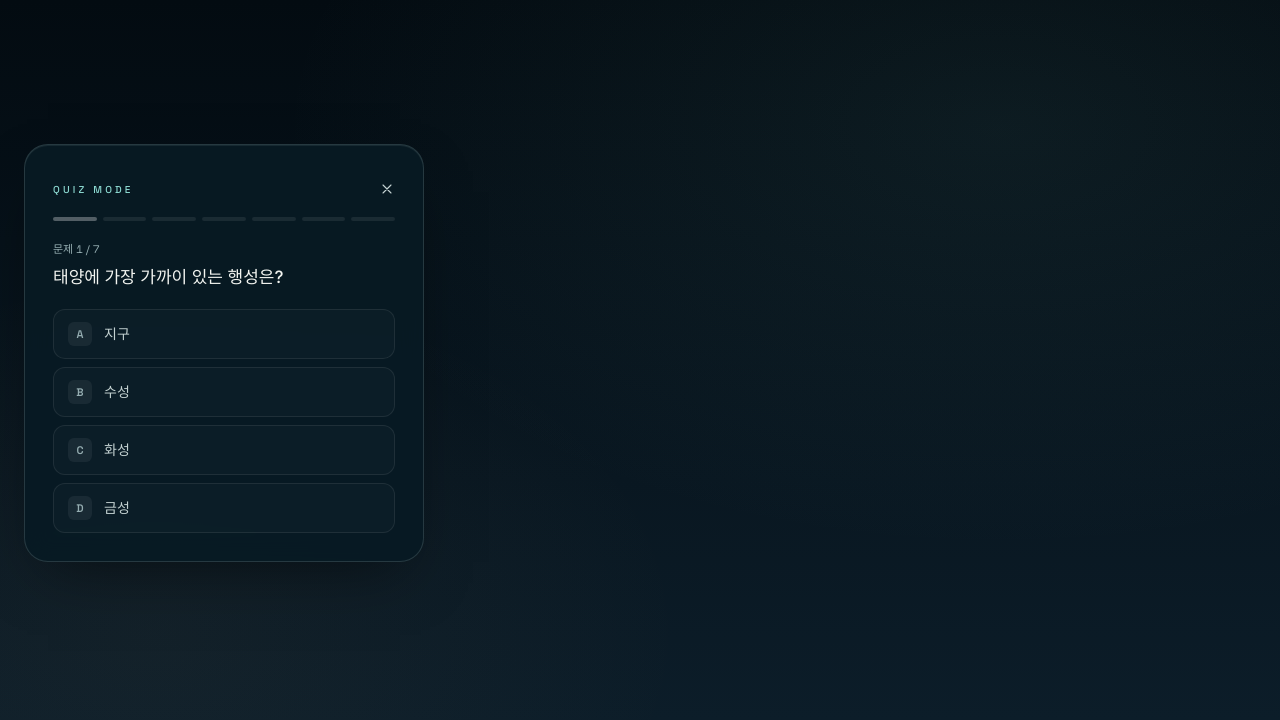
Test case: QuizModal › 오답 선택: 오답 피드백, 점수 변화 없음
Click the button "C 화성". click: (80, 450)
box: x1=53 y1=425 x2=395 y2=475
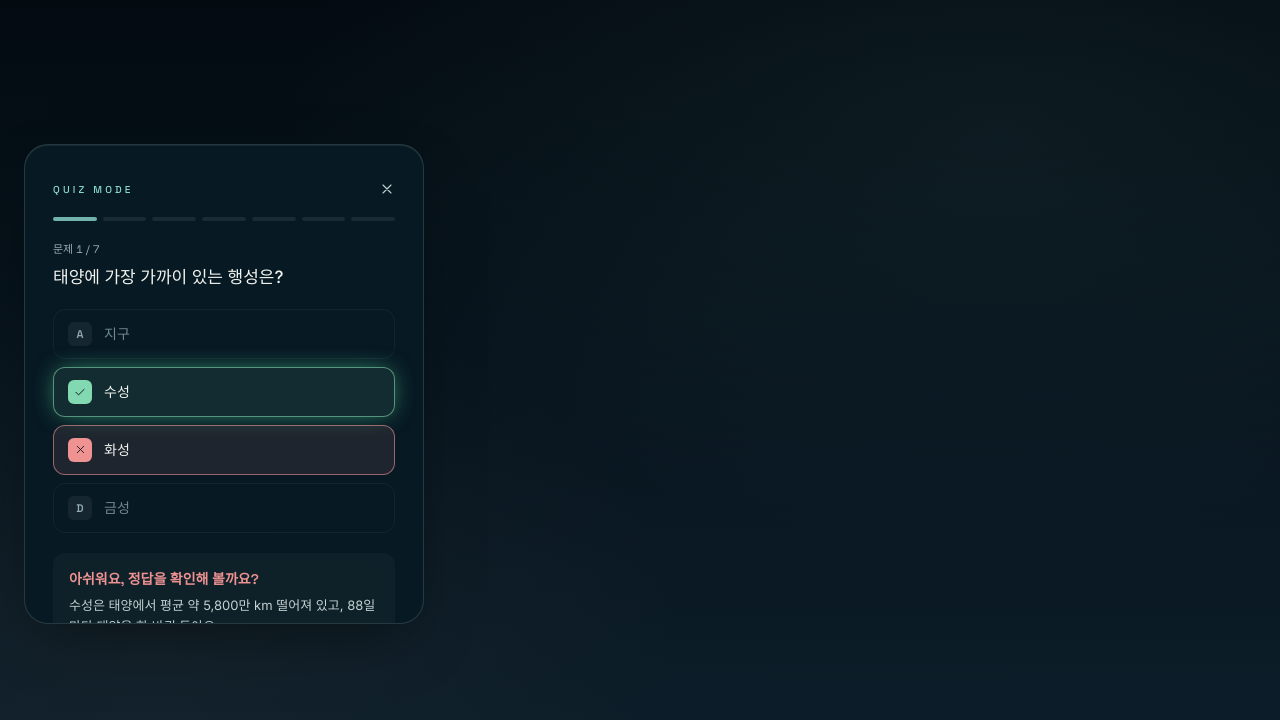
expect the text "아쉬워요, 정답을 확인해 볼까요?" is shown: met, box x1=69 y1=570 x2=259 y2=588
